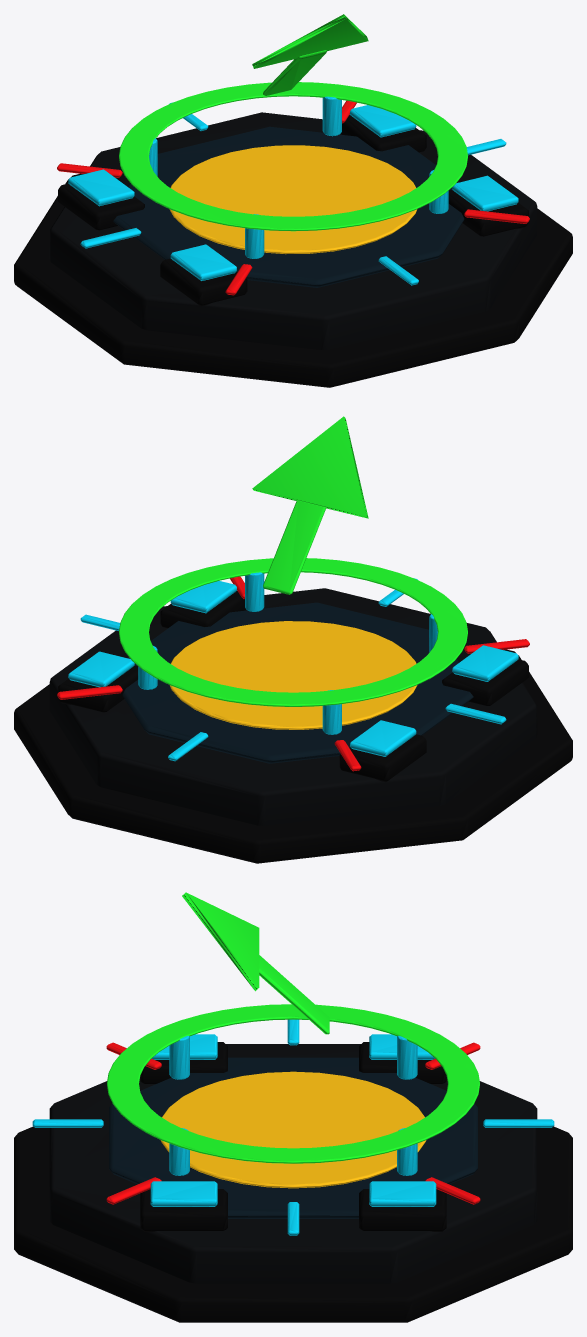
File: jumpPad.obj
3 renders of one model, top to bottom at view 1: azimuth 30°, elevation 25°; view 2: azimuth 150°, elevation 25°; view 3: azimuth 270°, elevation 25°, orthographic. The views are drawn at different scales.
Parts seen in each view (by area): view 1: JumpPad_Base, JumpPad_Base_Bottom, JumpPad_Center_Glow, JumpPad_Top_Panel, JumpPad_Hologram_Ring_Outer, JumpPad_Arrow_Head_Green, JumpPad_Corner_Block_Lower_Black_3, JumpPad_Corner_Block_Lower_Black_1, JumpPad_Corner_Block_Upper_Color_1, JumpPad_Corner_Block_Upper_Color_3, JumpPad_Corner_Block_Upper_Color_2, JumpPad_Corner_Block_Lower_Black_0 (+7 smaller); view 2: JumpPad_Base, JumpPad_Base_Bottom, JumpPad_Center_Glow, JumpPad_Top_Panel, JumpPad_Hologram_Ring_Outer, JumpPad_Arrow_Head_Green, JumpPad_Arrow_Body_Green, JumpPad_Corner_Block_Lower_Black_1, JumpPad_Corner_Block_Lower_Black_3, JumpPad_Corner_Block_Upper_Color_1, JumpPad_Corner_Block_Upper_Color_3, JumpPad_Corner_Block_Upper_Color_0 (+6 smaller); view 3: JumpPad_Base, JumpPad_Base_Bottom, JumpPad_Center_Glow, JumpPad_Top_Panel, JumpPad_Hologram_Ring_Outer, JumpPad_Arrow_Head_Green, JumpPad_Corner_Block_Lower_Black_0, JumpPad_Corner_Block_Lower_Black_2, JumpPad_Corner_Block_Upper_Color_0, JumpPad_Corner_Block_Upper_Color_2, JumpPad_Arrow_Body_Green, JumpPad_Corner_Block_Lower_Black_1 (+9 smaller).
Part boxes in pixels (x1=…): JumpPad_Base: x1=49, y1=112, x2=537, y2=349; JumpPad_Base_Bottom: x1=14, y1=173, x2=572, y2=387; JumpPad_Center_Glow: x1=169, y1=145, x2=417, y2=254; JumpPad_Top_Panel: x1=113, y1=126, x2=464, y2=287; JumpPad_Hologram_Ring_Outer: x1=119, y1=82, x2=467, y2=231; JumpPad_Arrow_Head_Green: x1=252, y1=14, x2=368, y2=68; JumpPad_Corner_Block_Lower_Black_3: x1=160, y1=258, x2=247, y2=306; JumpPad_Corner_Block_Lower_Black_1: x1=58, y1=183, x2=144, y2=230; JumpPad_Corner_Block_Upper_Color_1: x1=68, y1=169, x2=134, y2=206; JumpPad_Corner_Block_Upper_Color_3: x1=170, y1=244, x2=236, y2=280; JumpPad_Corner_Block_Upper_Color_2: x1=452, y1=175, x2=518, y2=211; JumpPad_Corner_Block_Lower_Black_0: x1=340, y1=115, x2=426, y2=152; JumpPad_Base: x1=49, y1=588, x2=537, y2=825; JumpPad_Base_Bottom: x1=14, y1=649, x2=572, y2=863; JumpPad_Center_Glow: x1=169, y1=621, x2=417, y2=729; JumpPad_Top_Panel: x1=122, y1=602, x2=473, y2=763; JumpPad_Hologram_Ring_Outer: x1=119, y1=558, x2=467, y2=706; JumpPad_Arrow_Head_Green: x1=252, y1=416, x2=368, y2=518; JumpPad_Arrow_Body_Green: x1=263, y1=500, x2=325, y2=594; JumpPad_Corner_Block_Lower_Black_1: x1=339, y1=734, x2=426, y2=782; JumpPad_Corner_Block_Lower_Black_3: x1=442, y1=659, x2=528, y2=705; JumpPad_Corner_Block_Upper_Color_1: x1=350, y1=720, x2=416, y2=756; JumpPad_Corner_Block_Upper_Color_3: x1=452, y1=645, x2=518, y2=681; JumpPad_Corner_Block_Upper_Color_0: x1=68, y1=651, x2=134, y2=687; JumpPad_Base: x1=49, y1=1044, x2=537, y2=1283; JumpPad_Base_Bottom: x1=14, y1=1126, x2=572, y2=1322; JumpPad_Center_Glow: x1=160, y1=1071, x2=426, y2=1188; JumpPad_Top_Panel: x1=109, y1=1057, x2=477, y2=1218; JumpPad_Hologram_Ring_Outer: x1=107, y1=1004, x2=479, y2=1163; JumpPad_Arrow_Head_Green: x1=182, y1=892, x2=259, y2=991; JumpPad_Corner_Block_Lower_Black_0: x1=359, y1=1189, x2=446, y2=1231; JumpPad_Corner_Block_Lower_Black_2: x1=140, y1=1189, x2=227, y2=1231; JumpPad_Corner_Block_Upper_Color_0: x1=369, y1=1181, x2=436, y2=1206; JumpPad_Corner_Block_Upper_Color_2: x1=150, y1=1181, x2=217, y2=1206; JumpPad_Arrow_Body_Green: x1=259, y1=955, x2=329, y2=1034; JumpPad_Corner_Block_Lower_Black_1: x1=359, y1=1042, x2=446, y2=1083.
Bounding box in the file's own units: 4.34 × 2.69 × 4.34.
